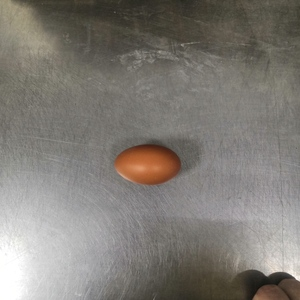brown egg: (113, 142, 182, 186)
